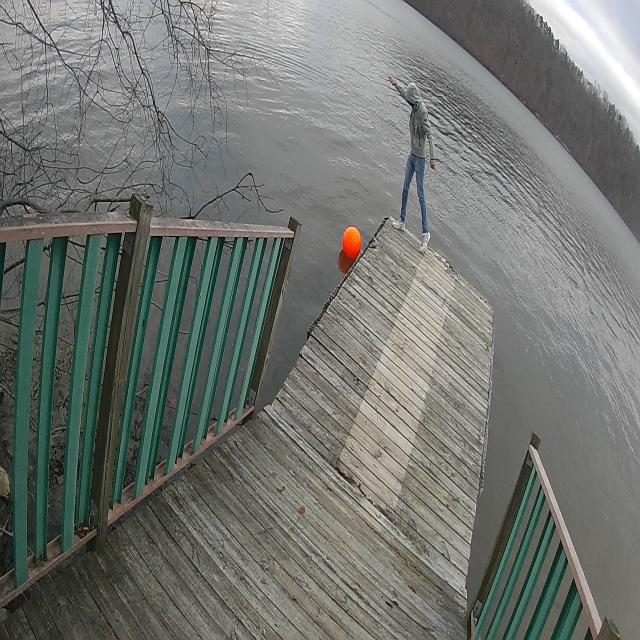Buoy: (341, 222, 363, 262)
